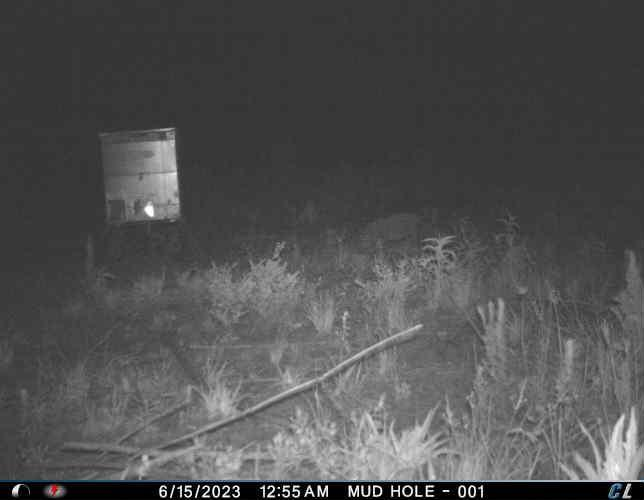Hog: (358, 207, 430, 260)
